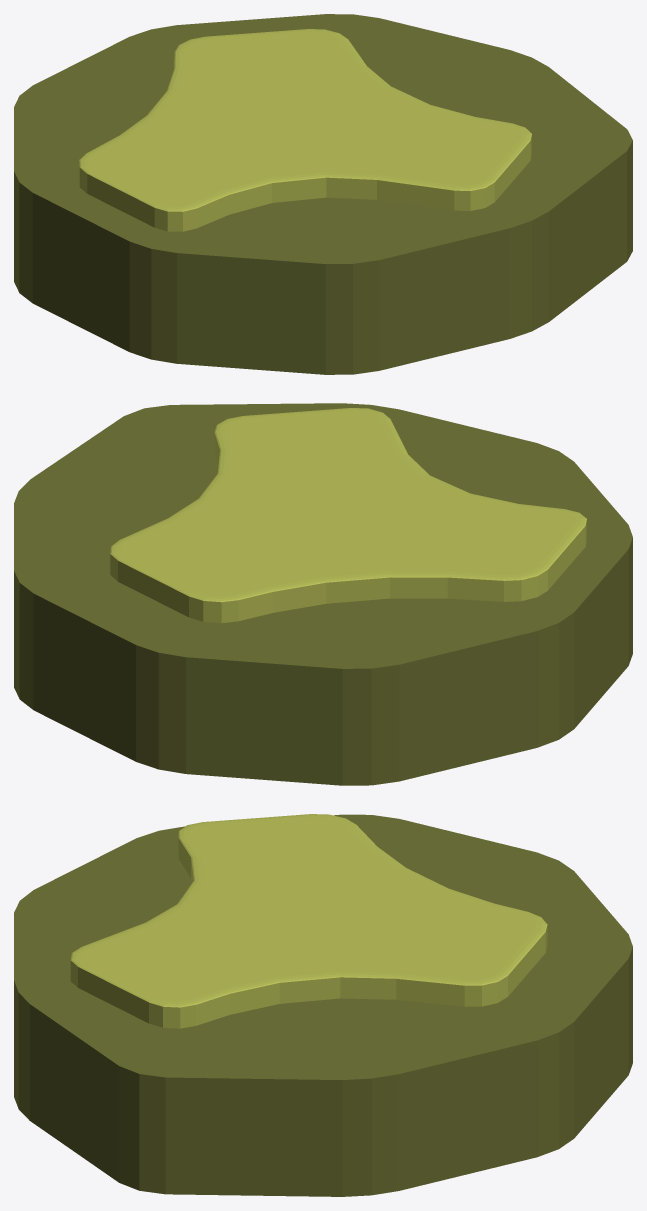
The model's file is gold_viewport.fbx.
The picture shows the model from 3 angles, top to bottom: view 1: azimuth 30°, elevation 25°; view 2: azimuth 150°, elevation 25°; view 3: azimuth 270°, elevation 25°; orthographic projection. The views are drawn at different scales.
Visible parts, largest first — view 1: gold_viewport_body; view 2: gold_viewport_body; view 3: gold_viewport_body.
Part boxes in pixels (x1,y1,x2,y2): gold_viewport_body: (14,14,632,374); gold_viewport_body: (14,403,632,785); gold_viewport_body: (14,814,632,1196).
Size of the model in its own units: 0.9749 by 0.2381 by 0.9603.
Materials: 1 (1 with a texture image).
